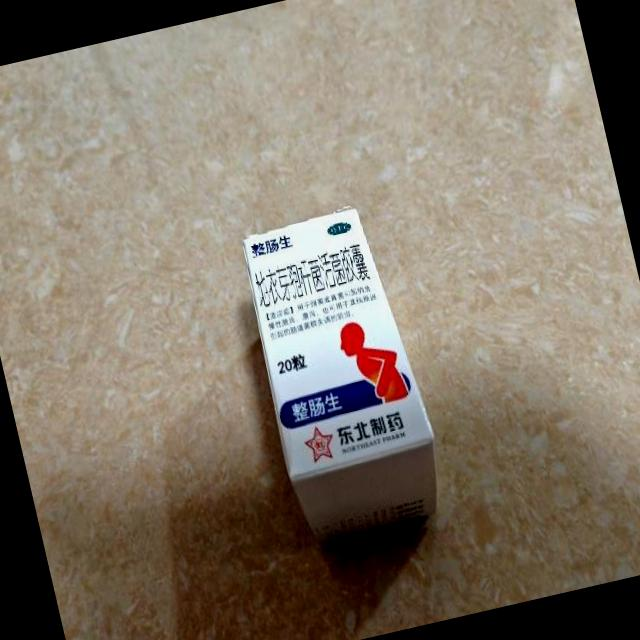box: (233, 200, 452, 546)
